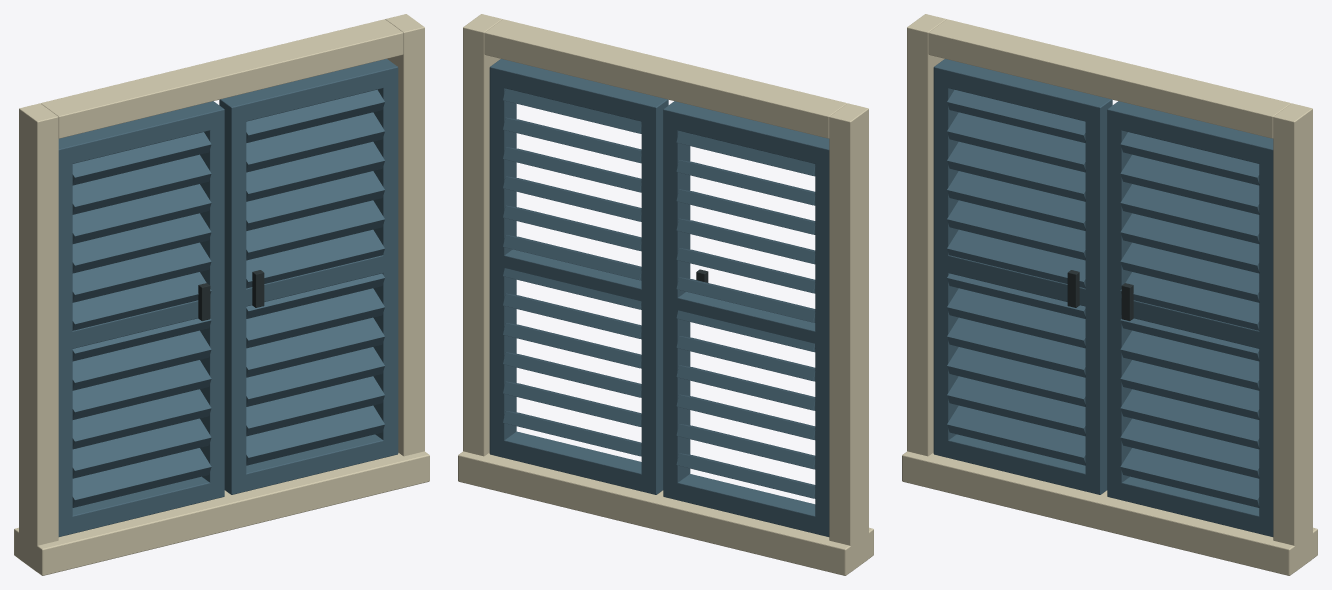
The picture shows the model from 3 angles, left to right: view 1: azimuth 30°, elevation 25°; view 2: azimuth 150°, elevation 25°; view 3: azimuth 330°, elevation 25°; orthographic projection.
Visible parts, largest first — view 1: FRAME_Jamb, FRAME_Head, FRAME_Sill, FRAME_Jamb.001, Right_Stile.001, Left_Stile.001, Right_Stile, Left_Stile, Right_Rail.002, Left_Rail.002, Right_Rail, Left_Louver_1 (+26 smaller); view 2: FRAME_Jamb, FRAME_Head, FRAME_Sill, FRAME_Jamb.001, Right_Stile.001, Right_Stile, Left_Stile.001, Left_Stile, Right_Rail, Left_Rail.002, Right_Rail.002, Left_Rail (+26 smaller); view 3: FRAME_Jamb.001, FRAME_Head, FRAME_Sill, FRAME_Jamb, Left_Stile.001, Left_Stile, Right_Stile.001, Right_Stile, Right_Rail.002, Left_Rail.002, Left_Rail, Right_Louver_1 (+26 smaller).
Boxes of the visible parts, bbox=[...] form: FRAME_Jamb: bbox=[19, 103, 58, 571]; FRAME_Head: bbox=[41, 19, 403, 138]; FRAME_Sill: bbox=[14, 451, 429, 575]; FRAME_Jamb.001: bbox=[385, 14, 424, 456]; Right_Stile.001: bbox=[219, 96, 246, 494]; Left_Stile.001: bbox=[200, 101, 224, 498]; Right_Stile: bbox=[373, 59, 398, 456]; Left_Stile: bbox=[58, 138, 72, 536]; Right_Rail.002: bbox=[219, 62, 398, 124]; Left_Rail.002: bbox=[58, 104, 224, 166]; Right_Rail: bbox=[224, 434, 398, 494]; Left_Louver_1: bbox=[72, 418, 211, 478]; FRAME_Jamb: bbox=[829, 103, 868, 571]; FRAME_Head: bbox=[484, 19, 846, 138]; FRAME_Sill: bbox=[458, 451, 873, 575]; FRAME_Jamb.001: bbox=[463, 14, 502, 456]; Right_Stile.001: bbox=[641, 96, 668, 494]; Right_Stile: bbox=[489, 59, 516, 457]; Left_Stile.001: bbox=[663, 101, 690, 498]; Left_Stile: bbox=[815, 138, 829, 536]; Right_Rail: bbox=[489, 431, 663, 494]; Left_Rail.002: bbox=[663, 104, 828, 165]; Right_Rail.002: bbox=[489, 62, 668, 124]; Left_Rail: bbox=[663, 474, 827, 536]; FRAME_Jamb.001: bbox=[1273, 103, 1312, 571]; FRAME_Head: bbox=[928, 19, 1290, 138]; FRAME_Sill: bbox=[902, 451, 1317, 575]; FRAME_Jamb: bbox=[907, 14, 946, 456]; Left_Stile.001: bbox=[1085, 96, 1112, 494]; Left_Stile: bbox=[933, 59, 958, 457]; Right_Stile.001: bbox=[1107, 101, 1131, 498]; Right_Stile: bbox=[1259, 138, 1273, 536]; Right_Rail.002: bbox=[1107, 104, 1272, 165]; Left_Rail.002: bbox=[933, 62, 1112, 124]; Left_Rail: bbox=[933, 434, 1107, 494]; Right_Louver_1: bbox=[1120, 418, 1259, 478].
Bounding box in the file's own units: 1.8 × 2 × 0.23.
